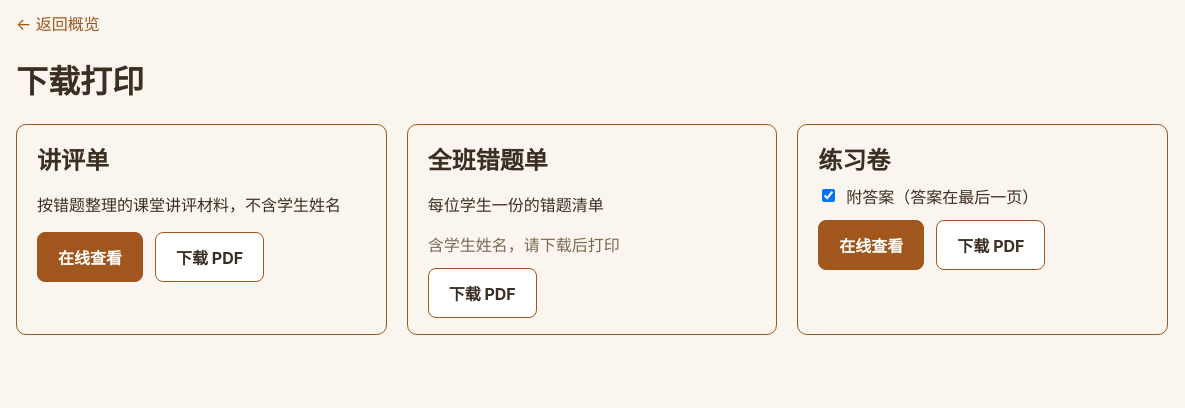
Test: Downloads online view › a blocked popup shows a hint and exports nothing
The width and height of the screenshot is (1185, 408).
Click the button "在线查看" below "按错题整理的课堂讲评材料，不含学生姓名" at [90, 257], box [37,232,143,282]
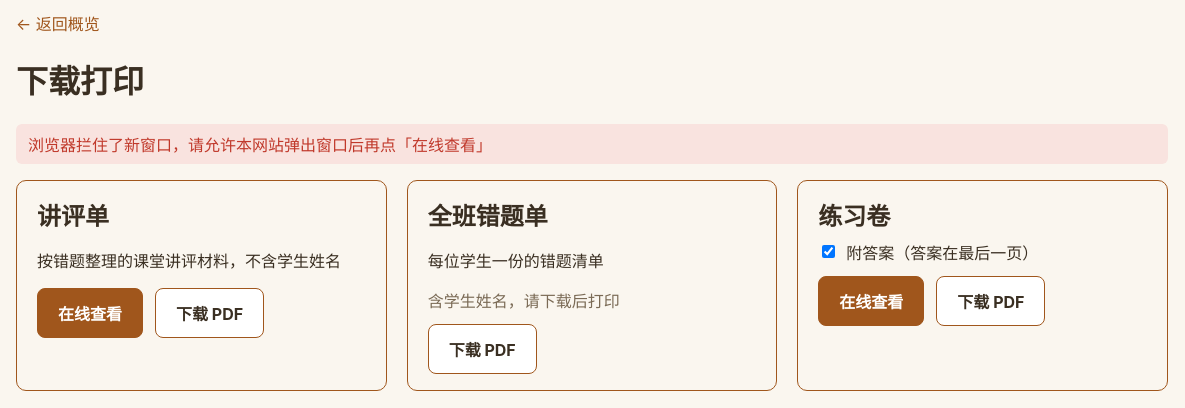
Result: the text "浏览器拦住了新窗口，请允许本网站弹出窗口后再点「在线查看」" is shown at [16,124,1168,164]
